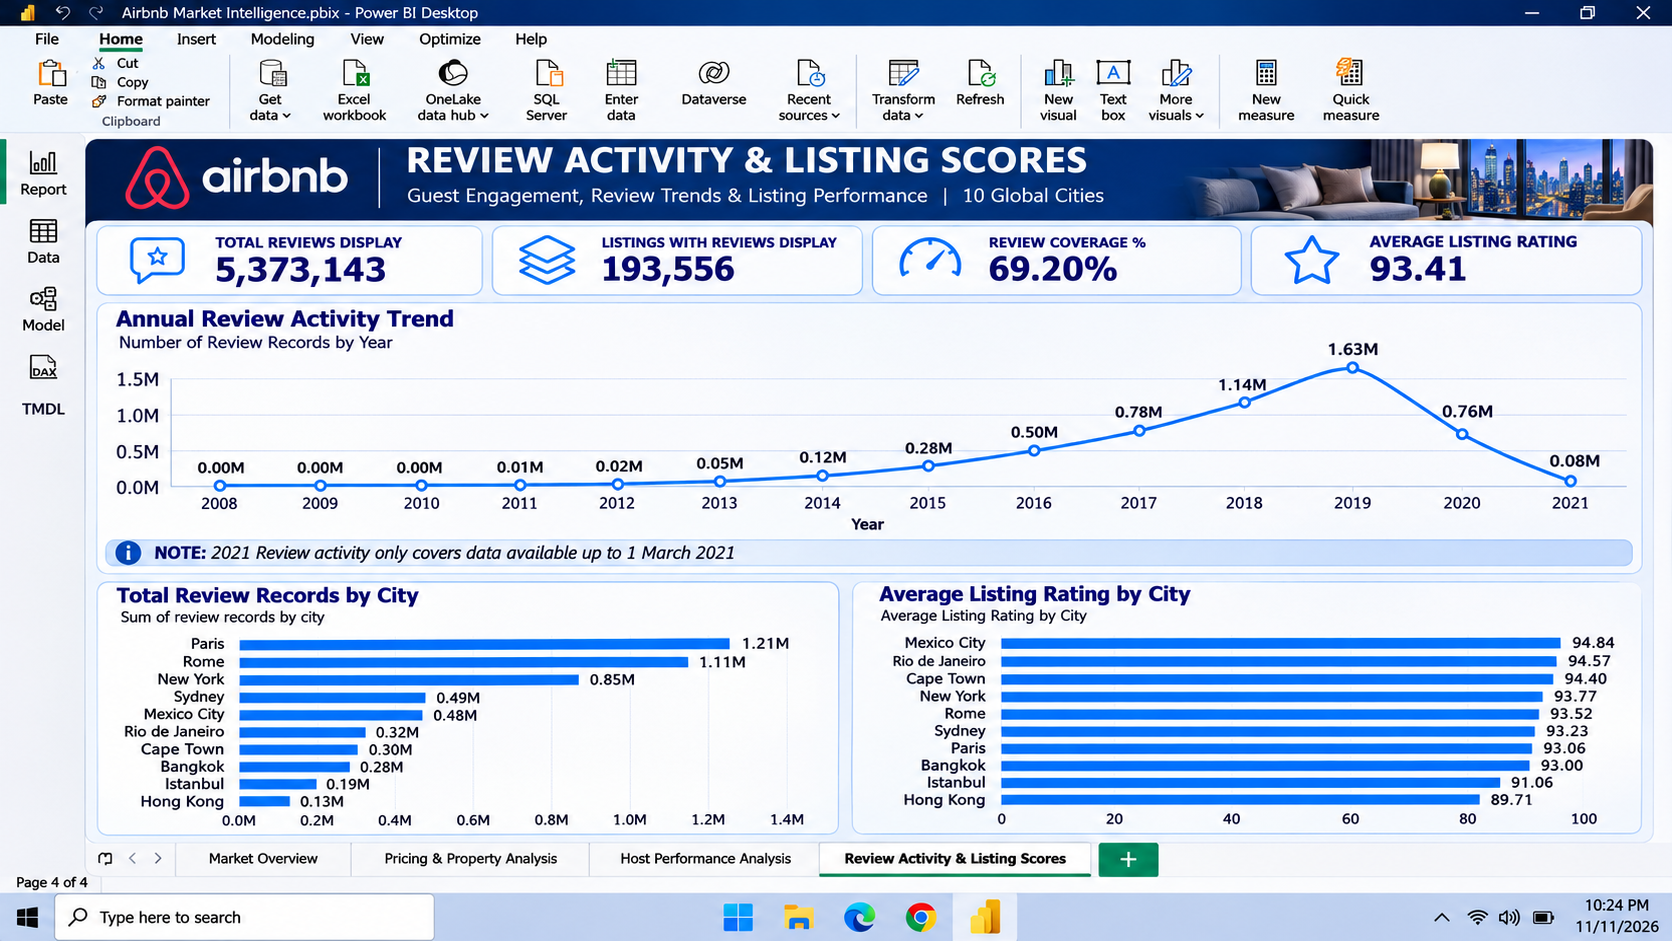

Layout of this report page (visuals, bound fields, positions):
{"tool":"powerbi","page":{"name":"Review Activity & Listing Scores","canvas":[1920,2000],"ordinal":3},"visuals":[{"type":"textbox","title":"Review Activity & Listing Scores","box":[11.1,0,1203.7,148.1],"z":0},{"type":"cardVisual","fields":{"Data":["Listings_PBI.Total Reviews Display"]},"box":[11.1,174.1,414.8,92.6],"z":1},{"type":"cardVisual","fields":{"Data":["Listings_PBI.Listings With Reviews Display"]},"box":[529.6,174.1,400,92.6],"z":2},{"type":"cardVisual","fields":{"Data":["Reviews_By_Listing.Review Coverage %"]},"box":[1014.8,174.1,400,92.6],"z":3},{"type":"cardVisual","fields":{"Data":["Listings_PBI.Average Listing Rating"]},"box":[1481.5,174.1,400,92.6],"z":4},{"type":"lineChart","title":"Annual Review Activity Trend","fields":{"Category":["Reviews_By_Year.year"],"Y":["Sum(Reviews_By_Year.review_records)"]},"box":[0,292.6,1907.4,659.3],"z":5},{"type":"textbox","box":[0,951.9,1868,52],"z":6},{"type":"clusteredBarChart","title":"Total Review Records by City","fields":{"Category":["City_Currency.city"],"Y":["Sum(Reviews_By_City_Year.review_records)"]},"box":[0,1007.4,988.9,514.8],"z":7},{"type":"clusteredBarChart","title":"Average Listing Rating by City","fields":{"Category":["City_Currency.city"],"Y":["Listings_PBI.Average Listing Rating"]},"box":[1011.1,1011.1,907.4,514.8],"z":8}]}

Visuals, with their boxes on the page's 1920x2000 design canvas (x1, y1, x2, y2). These are canvas units, not pixel positions in the 1672x941 screenshot, which may show the page scaled, cropped or inside an application window:
"Review Activity & Listing Scores" textbox: [11, 0, 1215, 148]
cardVisual - Listings_PBI.Total Reviews Display: [11, 174, 426, 267]
cardVisual - Listings_PBI.Listings With Reviews Display: [530, 174, 930, 267]
cardVisual - Reviews_By_Listing.Review Coverage %: [1015, 174, 1415, 267]
cardVisual - Listings_PBI.Average Listing Rating: [1482, 174, 1882, 267]
"Annual Review Activity Trend" lineChart: [0, 293, 1907, 952]
textbox: [0, 952, 1868, 1004]
"Total Review Records by City" clusteredBarChart: [0, 1007, 989, 1522]
"Average Listing Rating by City" clusteredBarChart: [1011, 1011, 1918, 1526]
